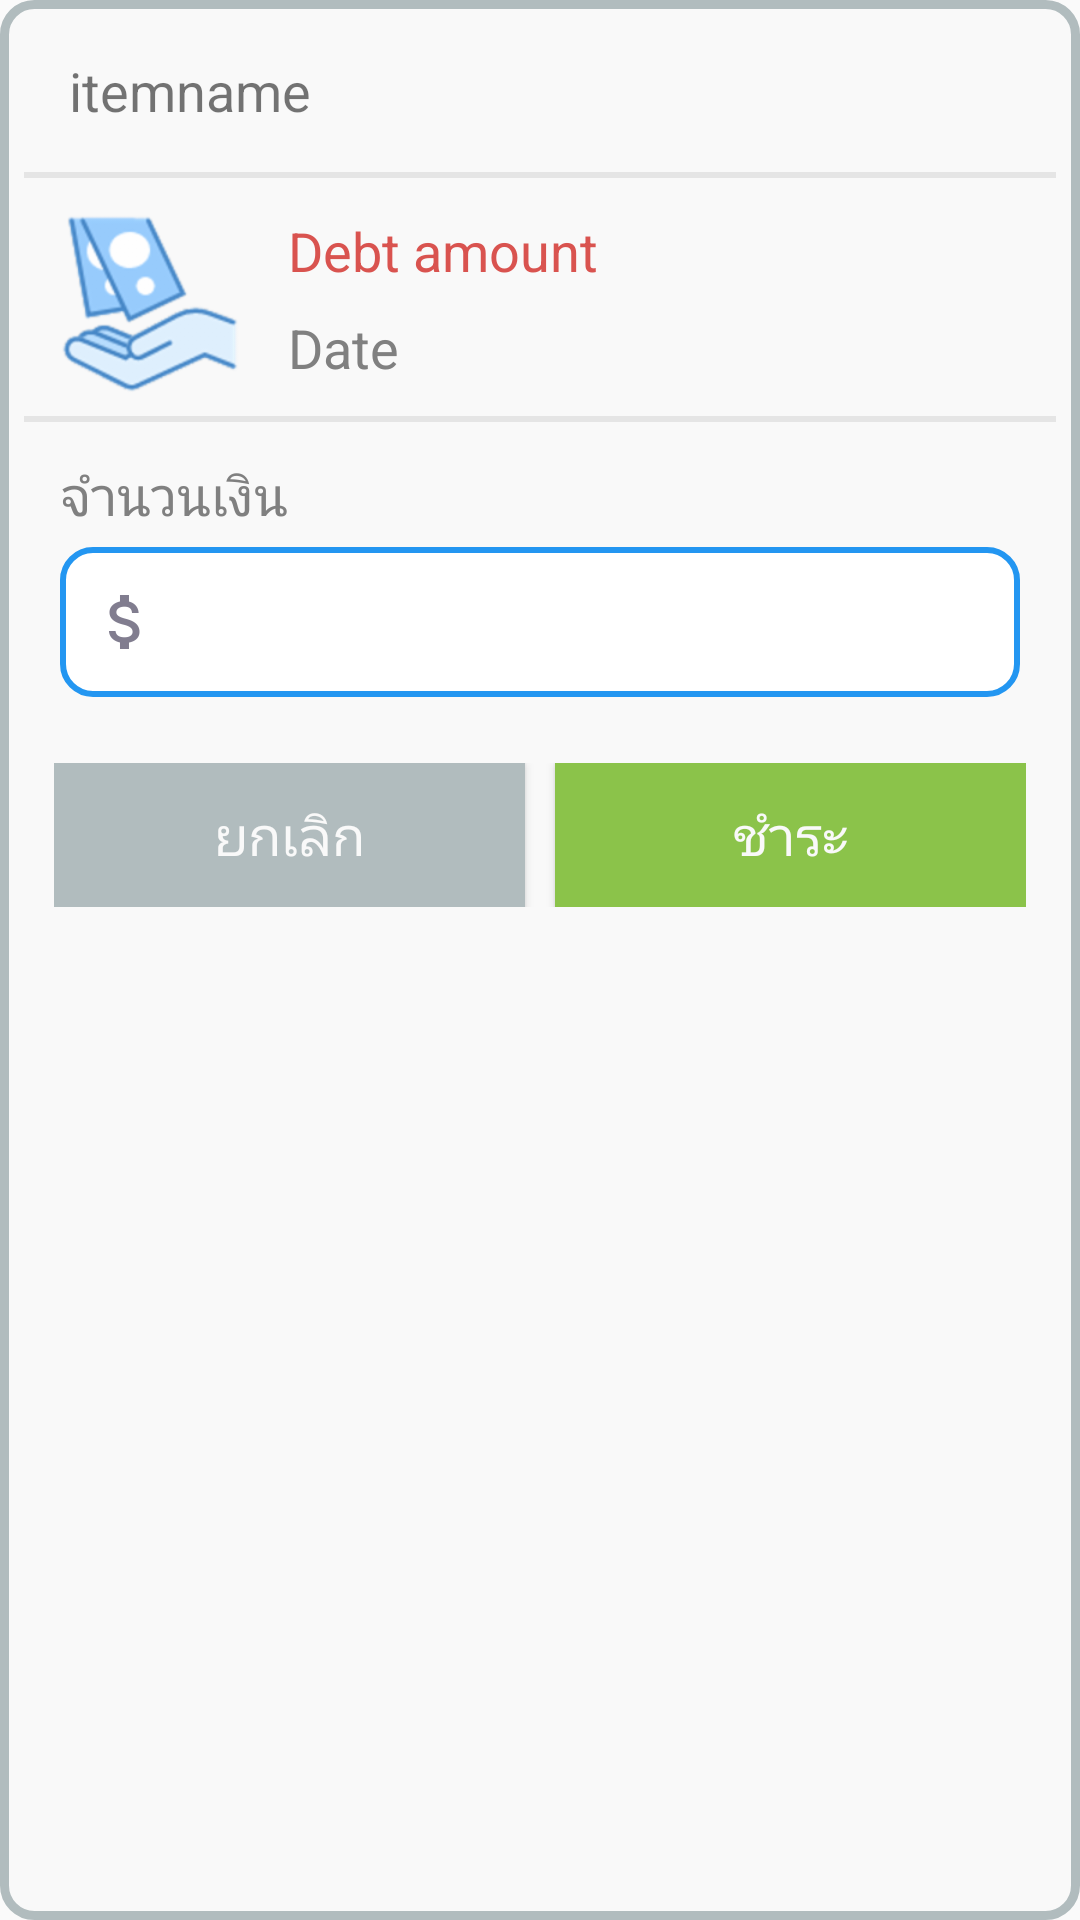

Icons on this 1080w x 1920h Android screen, each with the point to tap as [x,y]:
refund: [150,304]
